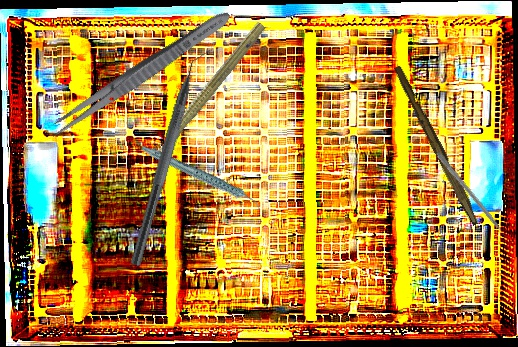Chopper: (129, 40, 216, 271)
Dressing Forceps: (45, 5, 235, 143)
Handpiece: (142, 16, 269, 167), (139, 123, 264, 233)
Pusher: (434, 150, 513, 246)
Scalpel Handle: (389, 64, 485, 227)
